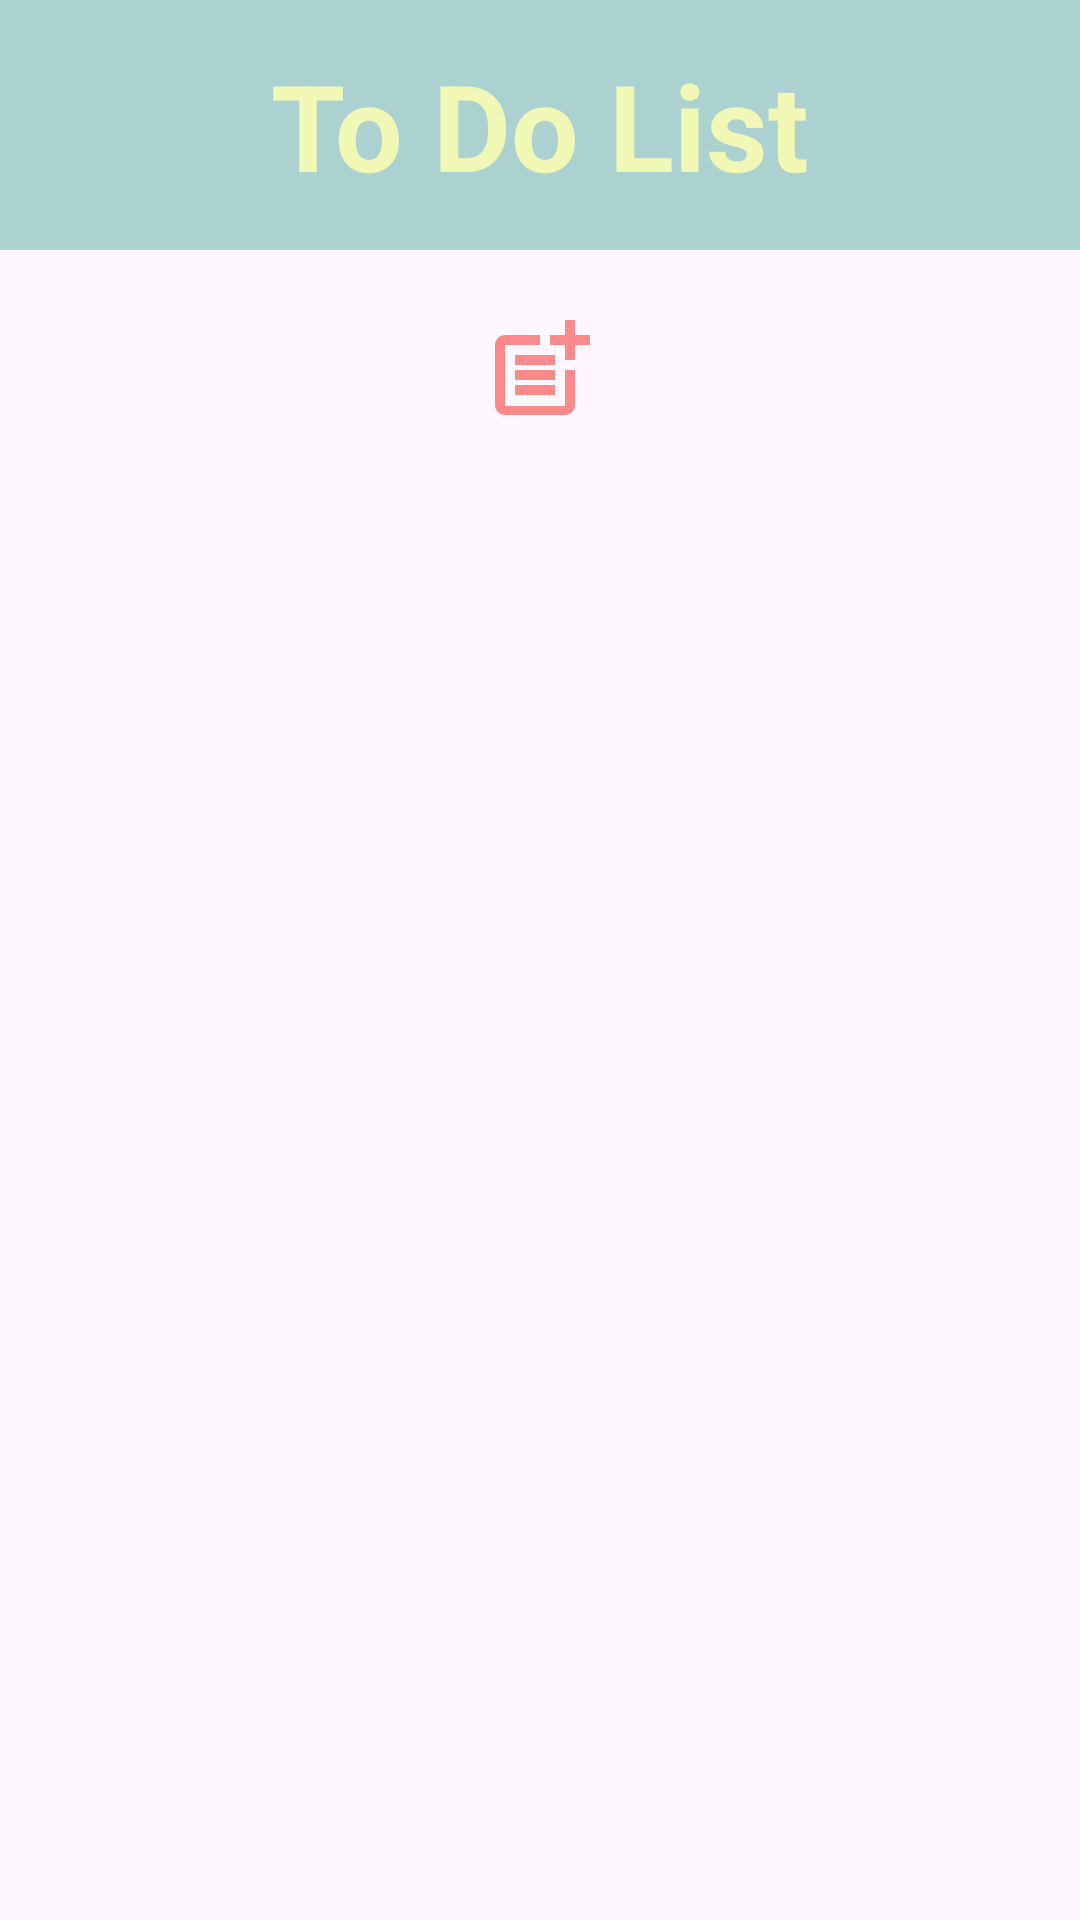

Where to tap for icons on this 1080w x 1920h app screen, as [x,y]:
post add: [542,367]
